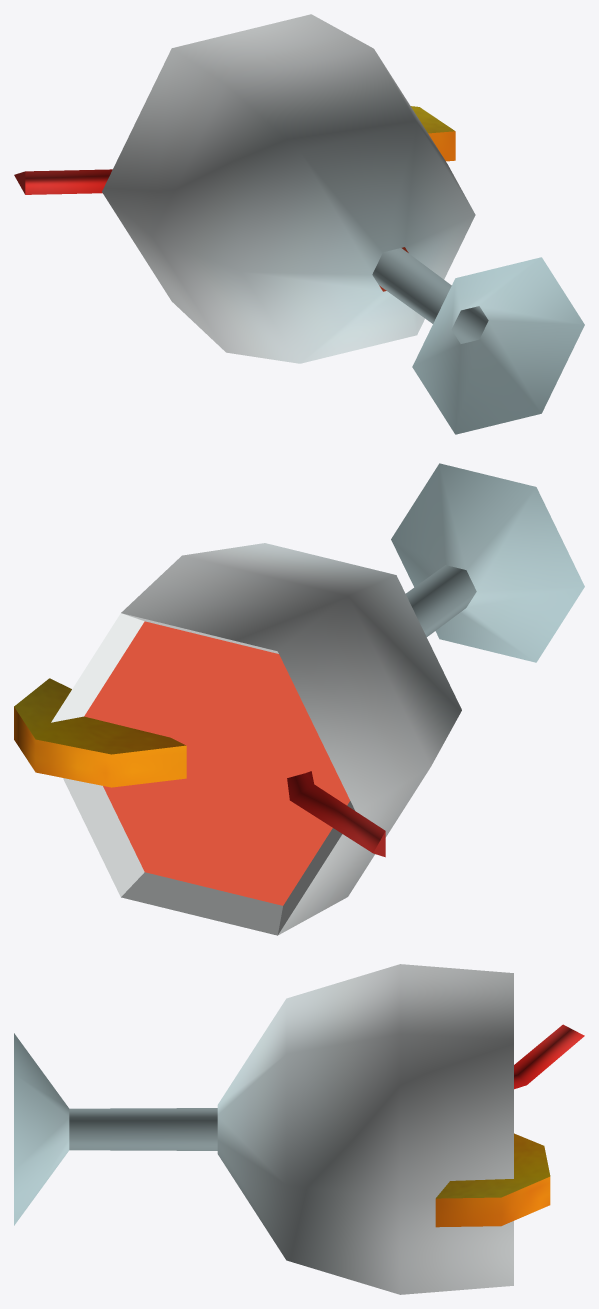
Rendered from Drink_02.fbx.
3 renders of one model, top to bottom at view 1: azimuth 30°, elevation 25°; view 2: azimuth 150°, elevation 25°; view 3: azimuth 270°, elevation 25°, orthographic. The views are drawn at different scales.
Parts seen in each view (by area): view 1: Drink_02; view 2: Drink_02; view 3: Drink_02.
Part boxes in pixels (x1,y1,x2,y2): Drink_02: [14, 14, 584, 434]; Drink_02: [14, 463, 584, 935]; Drink_02: [14, 964, 584, 1294].
Bounding box in the file's own units: 6.61 × 9.21 × 4.64.
